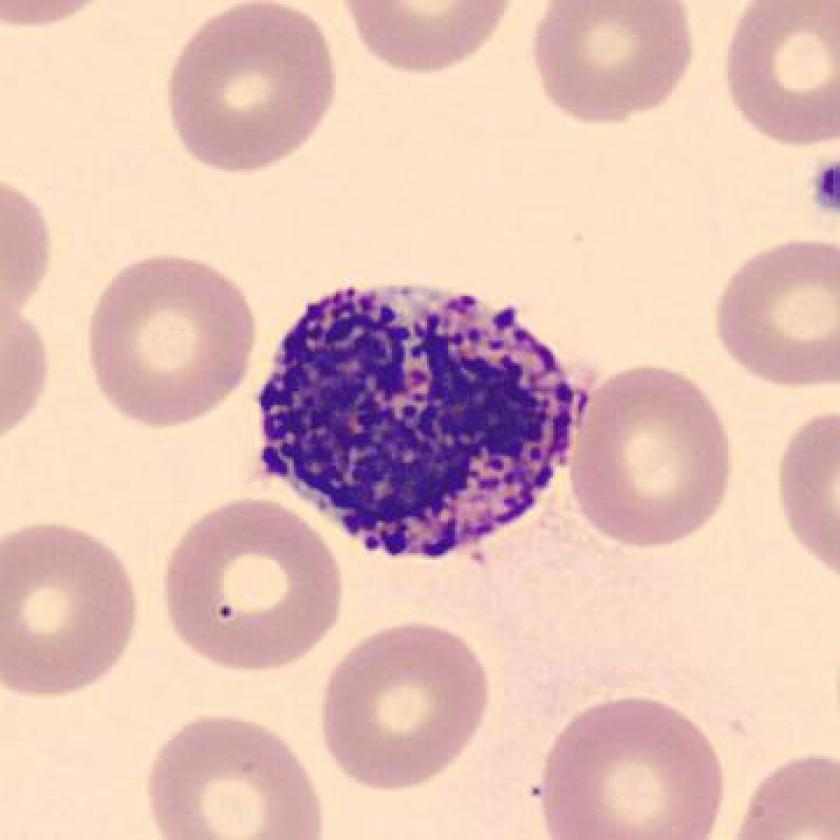basophil: (237, 272, 610, 580)
